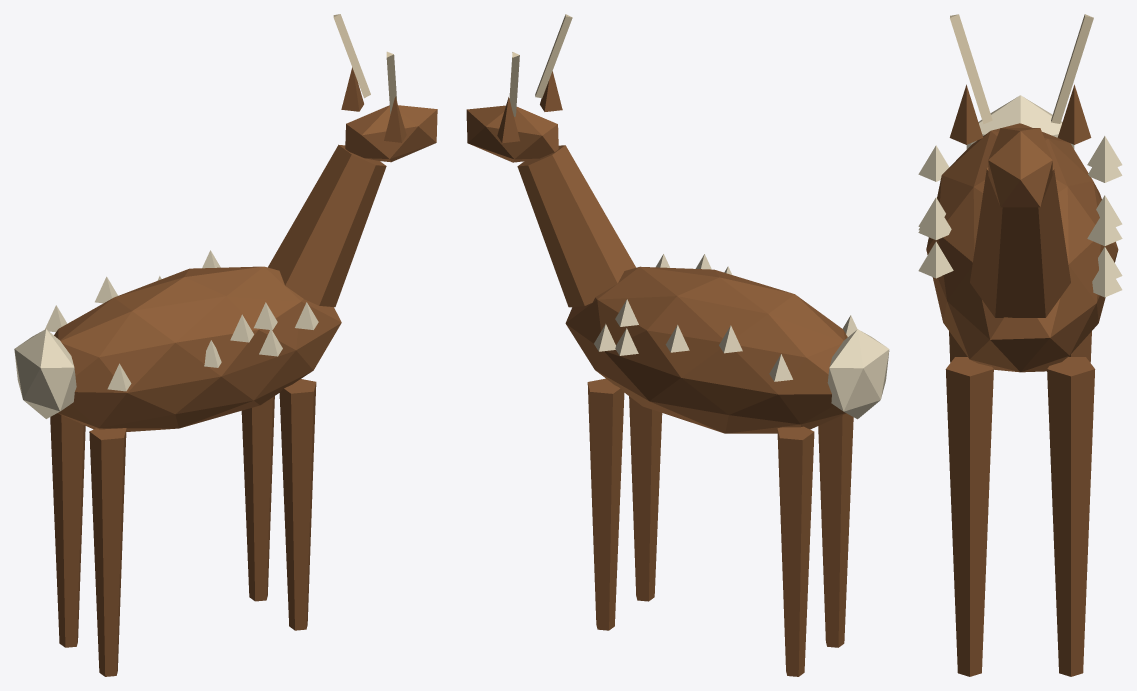
The model's file is hjort.glb.
3 views of the same model, side by side, from view 1: azimuth 30°, elevation 25°; view 2: azimuth 150°, elevation 25°; view 3: azimuth 270°, elevation 25° (orthographic). The views are drawn at different scales.
Parts seen in each view (by area): view 1: hjort; view 2: hjort; view 3: hjort.
Part boxes in pixels (<box>): hjort: <box>14,14,437,676</box>; hjort: <box>466,14,889,676</box>; hjort: <box>918,14,1122,676</box>.
Size of the model in its own units: 1.44 by 1.86 by 0.484.
